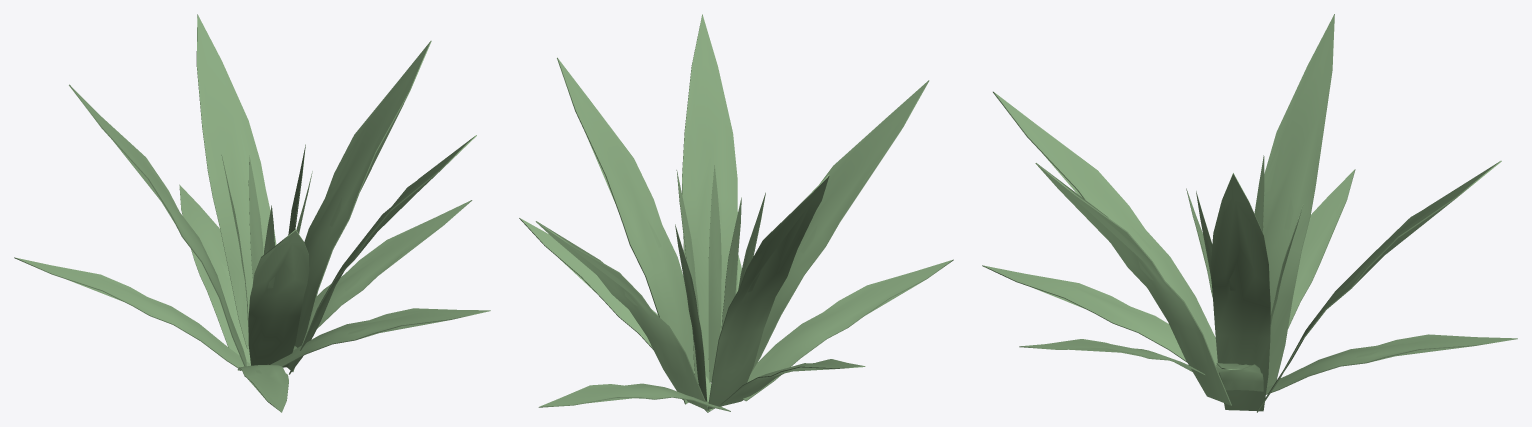
The model's file is ThinLeafBushF.fbx.
The picture shows the model from 3 angles, left to right: view 1: azimuth 30°, elevation 25°; view 2: azimuth 150°, elevation 25°; view 3: azimuth 270°, elevation 25°; orthographic projection. The views are drawn at different scales.
Parts seen in each view (by area): view 1: pCube156; view 2: pCube156; view 3: pCube156.
Boxes of the visible parts, x1=… form: pCube156: x1=14, y1=14, x2=490, y2=412; pCube156: x1=519, y1=14, x2=953, y2=412; pCube156: x1=982, y1=14, x2=1517, y2=412.
Size of the model in its own units: 1.71 by 1.22 by 1.88.
